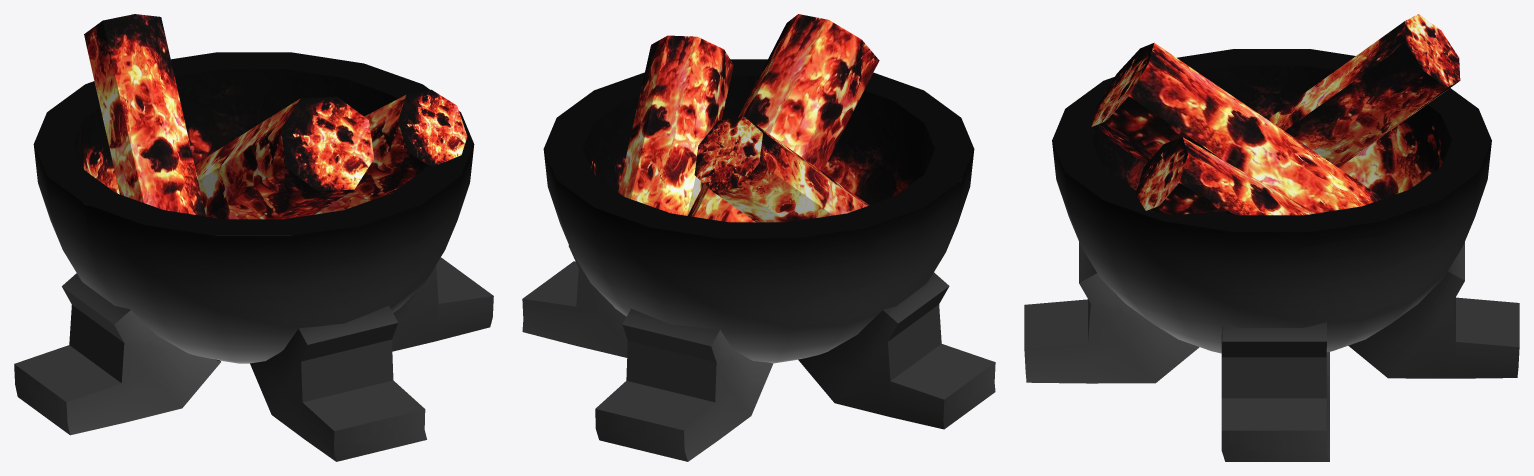
Rendered from Fogata.fbx.
3 views of the same model, side by side, from view 1: azimuth 30°, elevation 25°; view 2: azimuth 150°, elevation 25°; view 3: azimuth 270°, elevation 25° (orthographic). The views are drawn at different scales.
Parts seen in each view (by area): view 1: Fogata; view 2: Fogata; view 3: Fogata.
Boxes of the visible parts, left/top/right/bottom form: Fogata: left=14, top=14, right=493, bottom=461; Fogata: left=522, top=14, right=995, bottom=461; Fogata: left=1024, top=14, right=1519, bottom=461.
Bounding box in the file's own units: 361 × 252 × 361.
4 materials, 3 textured.
